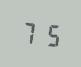five: (40, 20, 60, 48)
seven: (19, 18, 39, 46)
